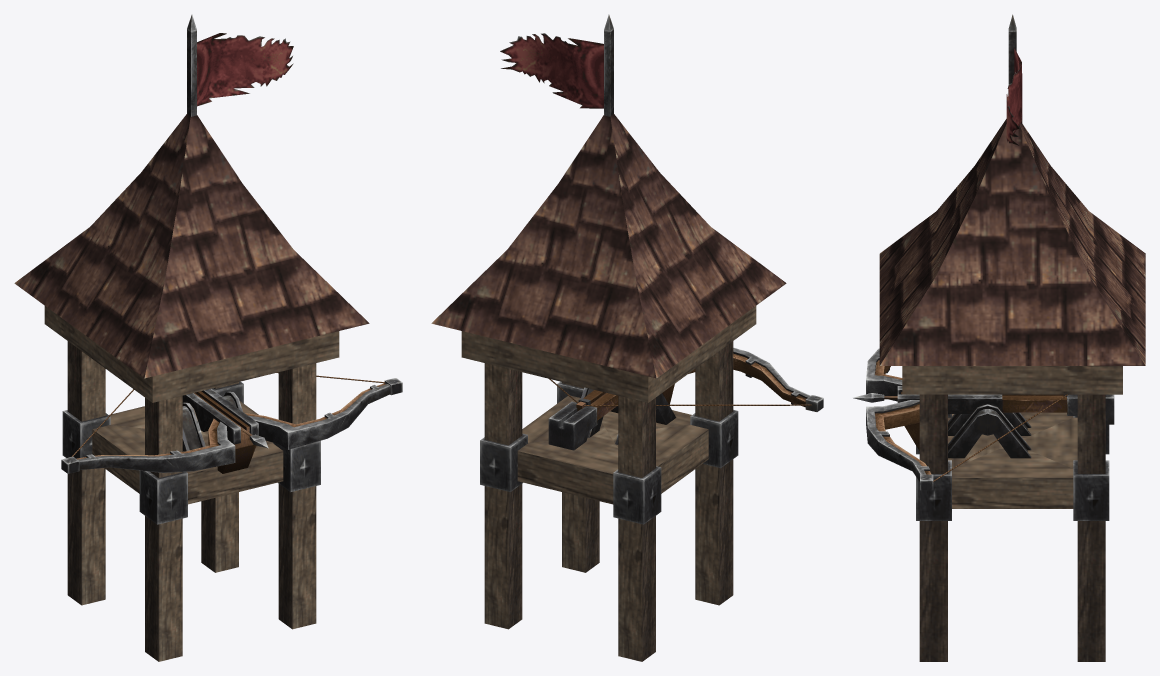
Rendered from SC_yonghengsenlin_15.FBX.
3 renders of one model, left to right at view 1: azimuth 30°, elevation 25°; view 2: azimuth 150°, elevation 25°; view 3: azimuth 270°, elevation 25°, orthographic. The views are drawn at different scales.
Parts seen in each view (by area): view 1: SC_yonghengsenlin_15; view 2: SC_yonghengsenlin_15; view 3: SC_yonghengsenlin_15.
Boxes of the visible parts, x1,y1,x2,y2 form: SC_yonghengsenlin_15: (14,14,402,661); SC_yonghengsenlin_15: (431,14,823,661); SC_yonghengsenlin_15: (853,14,1145,661).
Size of the model in its own units: 370 by 629 by 275.
